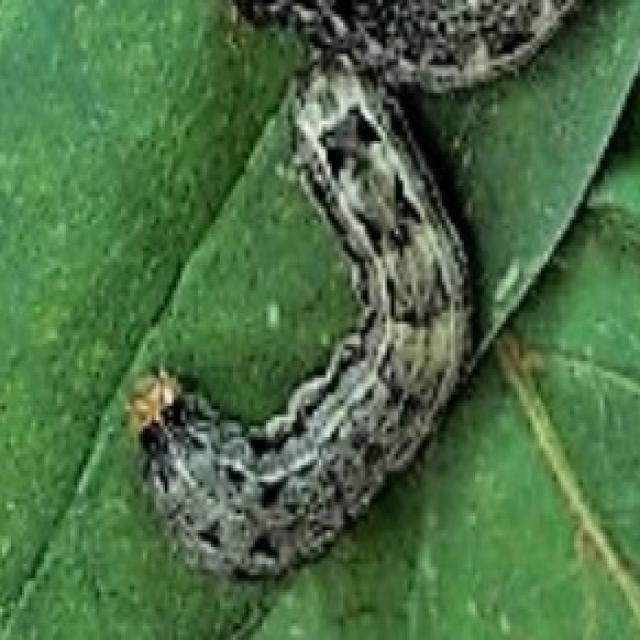armyworm: (126, 0, 596, 588)
